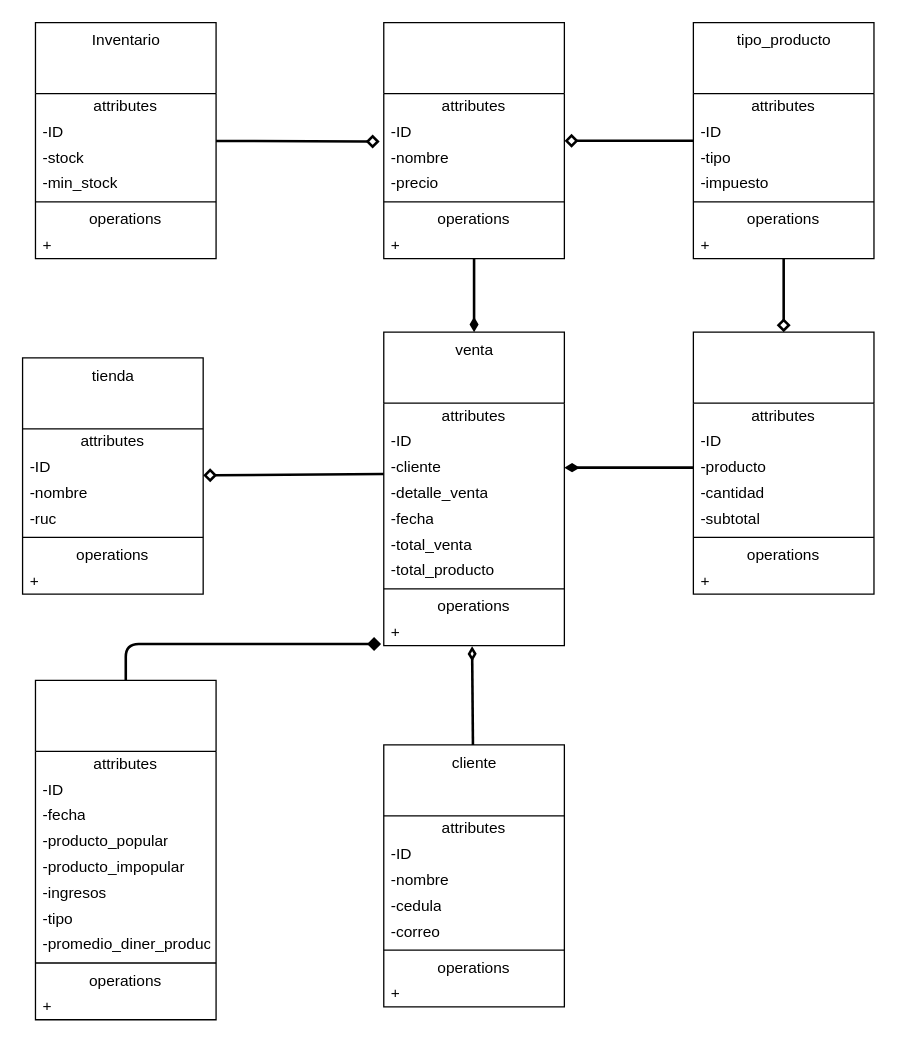
The diagram is 897 pixels wide and 1042 high, and some of its shapes have lost their labels. Each missing label, with the box of its shape:
detalle_venta: (692, 331, 874, 594)
Producto: (382, 21, 564, 259)
reporte_venta: (34, 679, 216, 1020)
